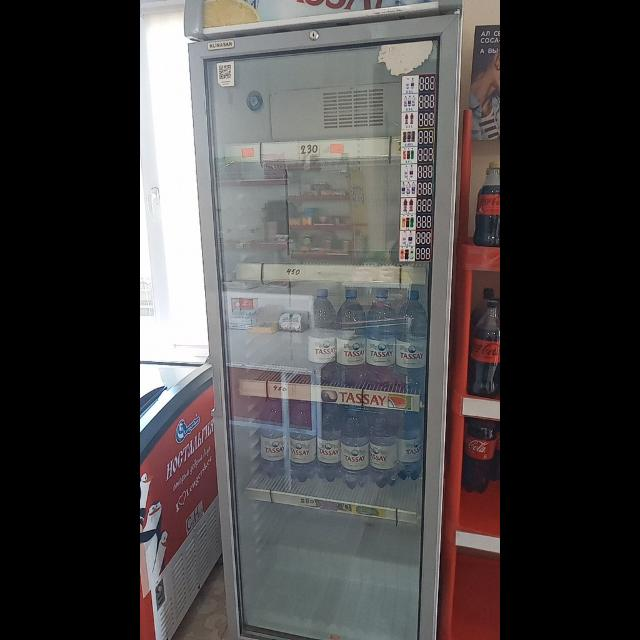Cooling-Display: (183, 1, 461, 640)
